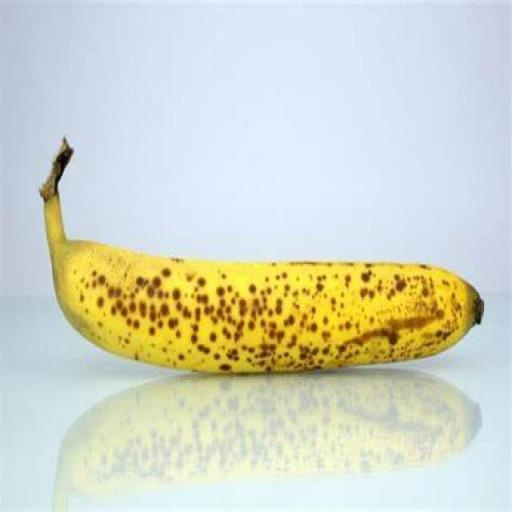fruit: (40, 140, 483, 372), (55, 368, 480, 509)
